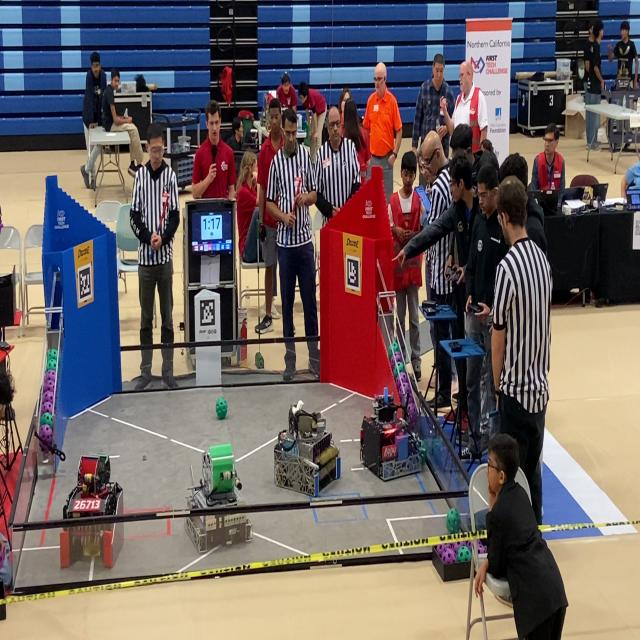artifact_green: (446, 509, 460, 534), (429, 438, 442, 461), (441, 547, 456, 565), (456, 546, 471, 563), (216, 397, 227, 419), (390, 352, 404, 369), (388, 341, 400, 360), (420, 439, 428, 464), (431, 438, 441, 456), (393, 363, 405, 378), (40, 413, 53, 426), (255, 352, 264, 369), (47, 358, 57, 370), (47, 349, 57, 359), (47, 356, 58, 364), (48, 357, 58, 363)
artifact_purple: (397, 372, 410, 402), (407, 395, 418, 425), (39, 424, 53, 446), (397, 374, 407, 404), (457, 545, 471, 563), (390, 352, 403, 370), (442, 548, 456, 564), (436, 544, 449, 558), (43, 390, 54, 403), (42, 402, 53, 414), (44, 380, 55, 392), (452, 541, 462, 553), (45, 371, 55, 382), (478, 541, 486, 554), (463, 541, 472, 550)
